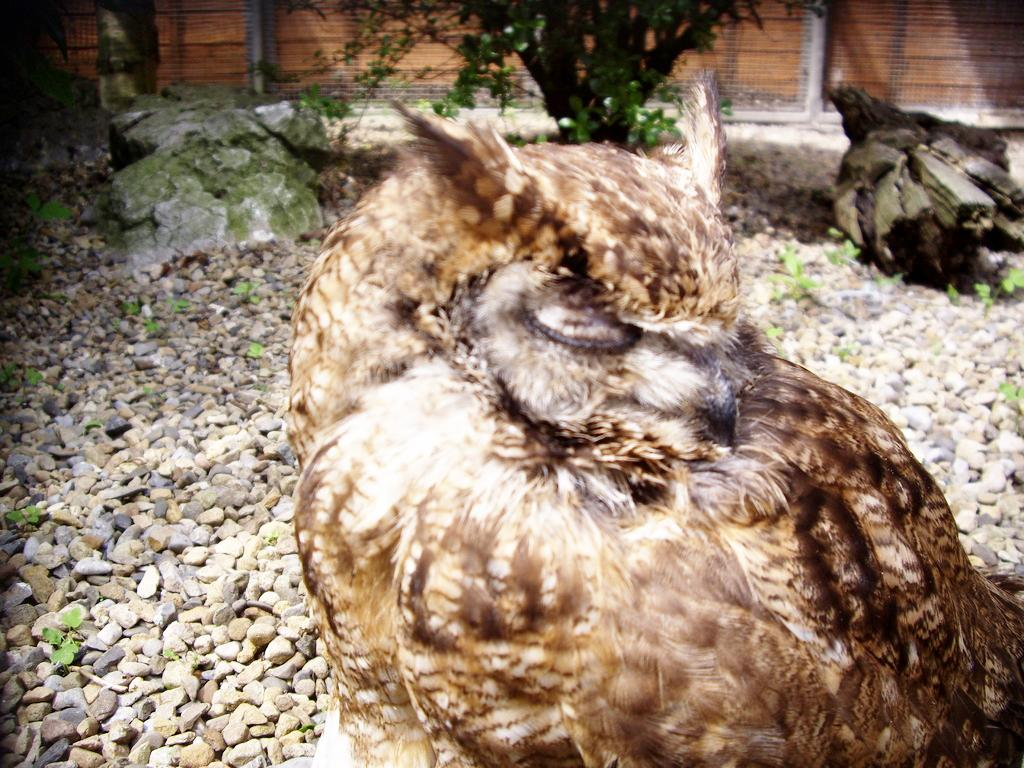Owl: (288, 67, 1024, 768)
